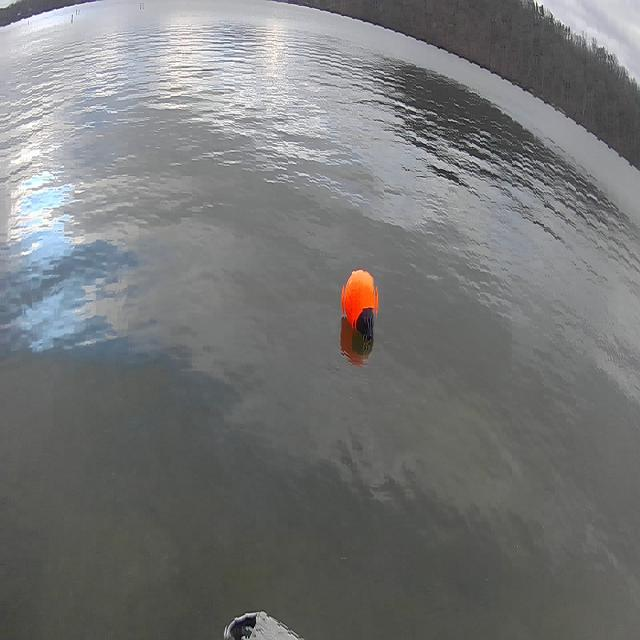Buoy: (338, 262, 386, 346)
